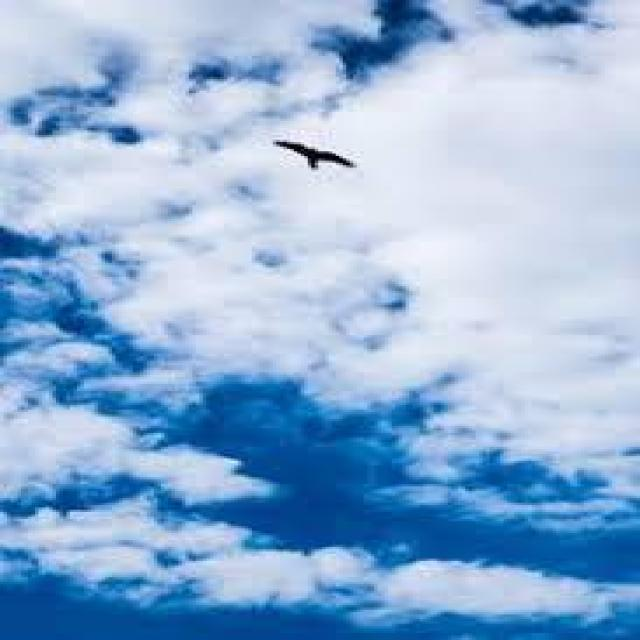bird: (264, 130, 365, 174)
